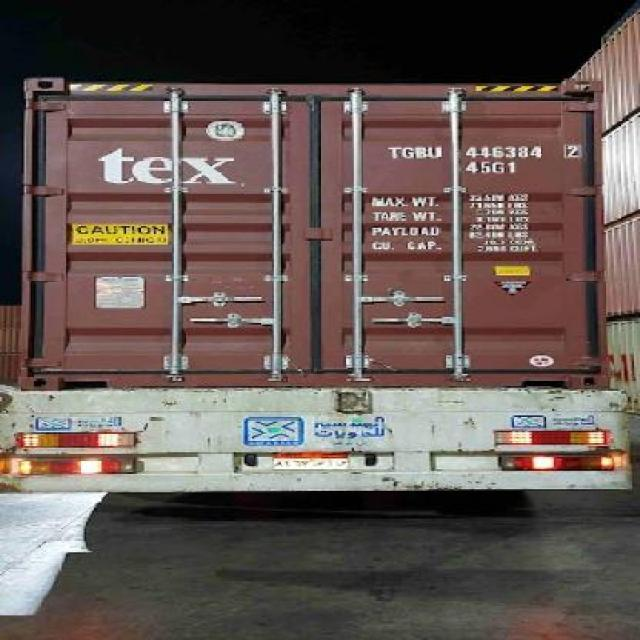ISO: (466, 160, 524, 174)
container_number: (386, 140, 562, 160)
